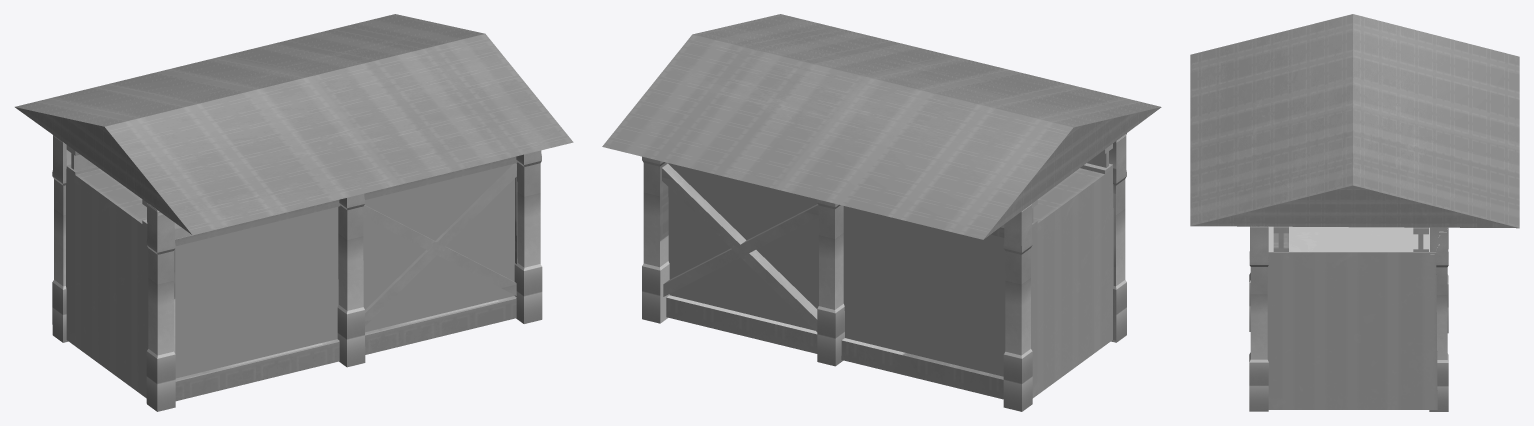
File: bridge.fbx
3 views of the same model, side by side, from view 1: azimuth 30°, elevation 25°; view 2: azimuth 150°, elevation 25°; view 3: azimuth 270°, elevation 25° (orthographic). The views are drawn at different scales.
Visible parts, largest first — view 1: bridge3, bridgeGlass; view 2: bridge3, bridgeGlass; view 3: bridge3.
Boxes of the visible parts, x1,y1,x2,y2 form: bridge3: (15,14,573,411); bridgeGlass: (175,164,514,378); bridge3: (602,14,1161,411); bridgeGlass: (668,163,1005,376); bridge3: (1190,14,1519,411).
Bounding box in the file's own units: 3626 × 2236 × 2936.
